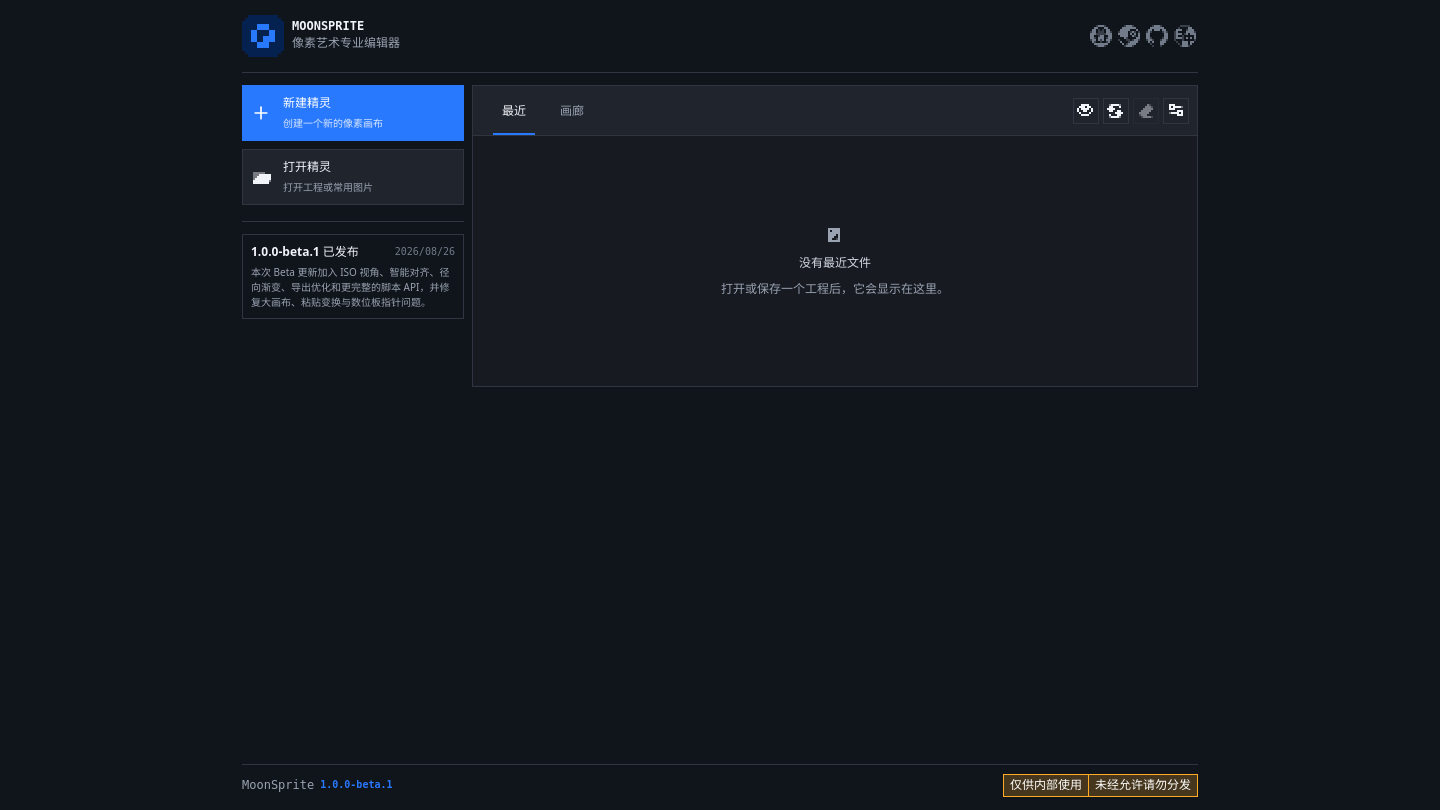
Test: HomeWorkspace › adds a selected folder as a persisted homepage section
Click the button named "管理首页栏目" at (1176, 110), box [1163,98,1189,124]
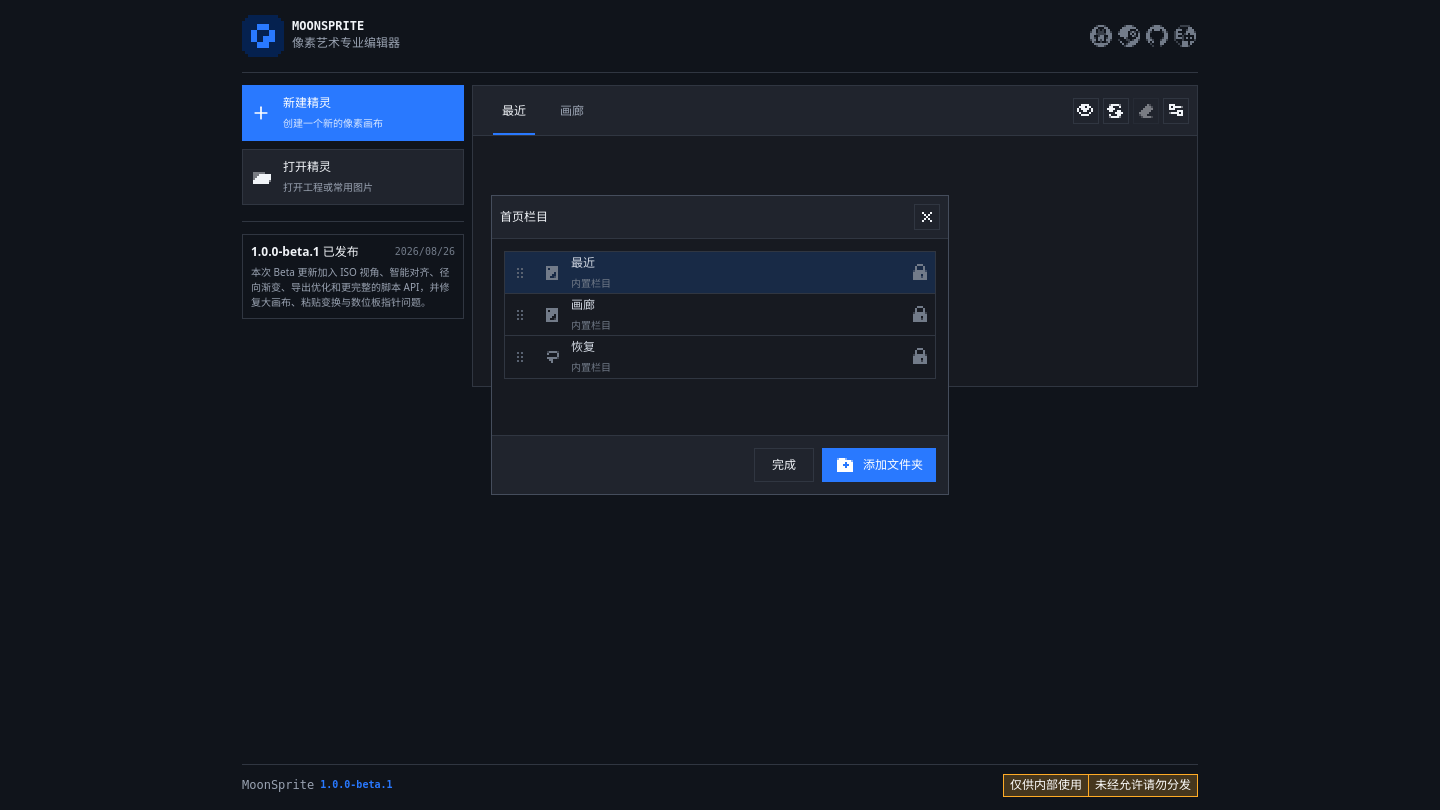
Expected: the dialog "首页栏目" is shown, [491,195,949,495]
Click the button "添加文件夹" at (879, 465), box [822,448,936,482]
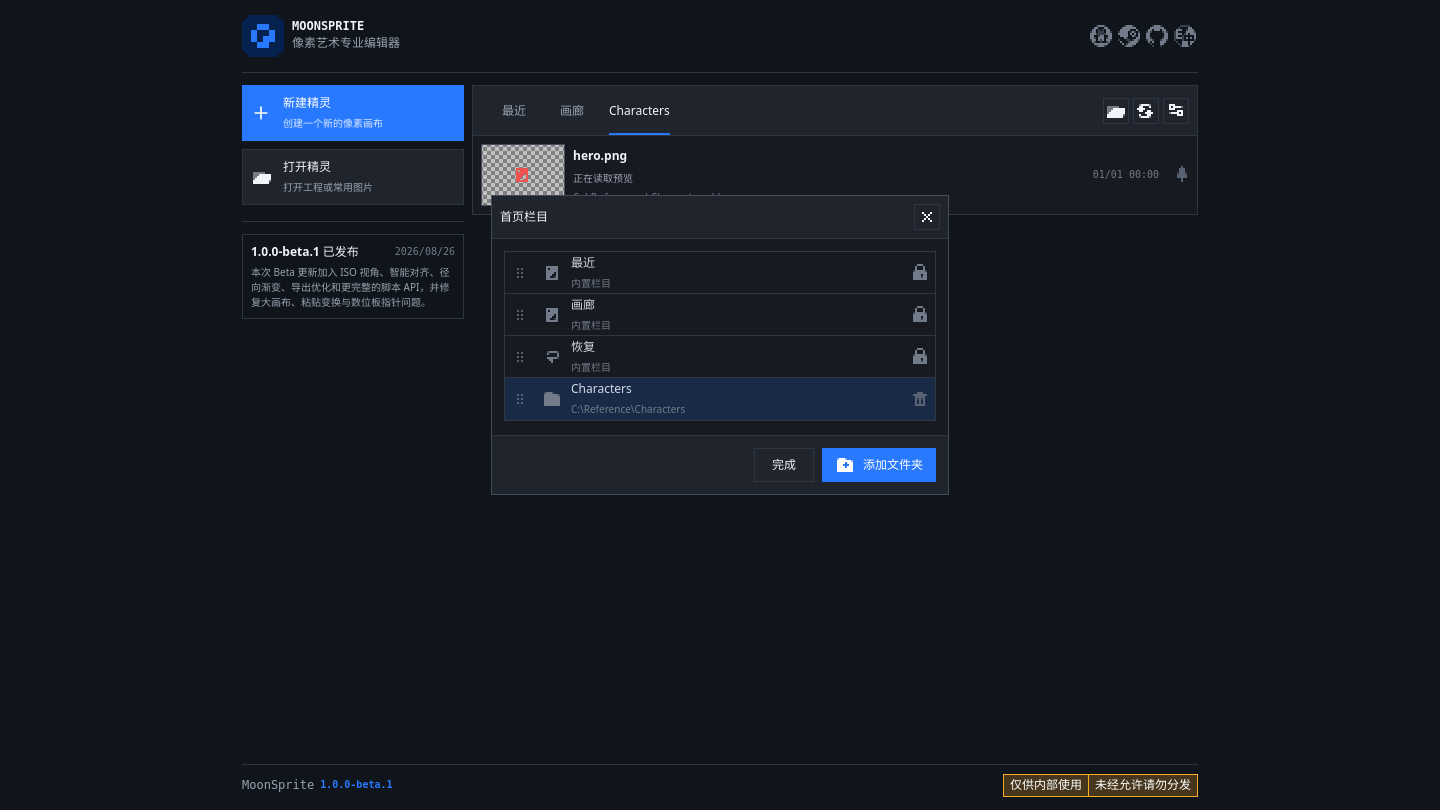
Expected: the text "hero.png" is shown, [573,146,627,164]
